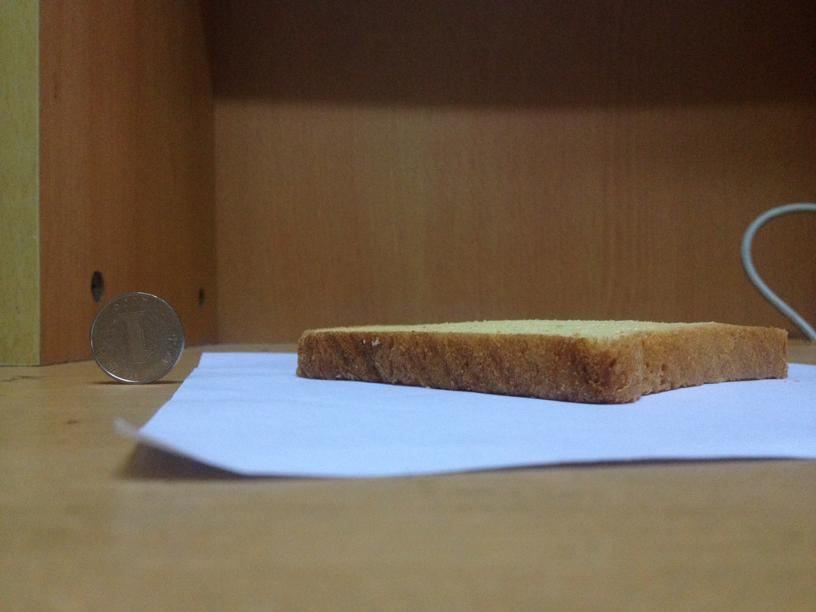bread: (289, 320, 790, 400)
coin: (86, 292, 185, 384)
